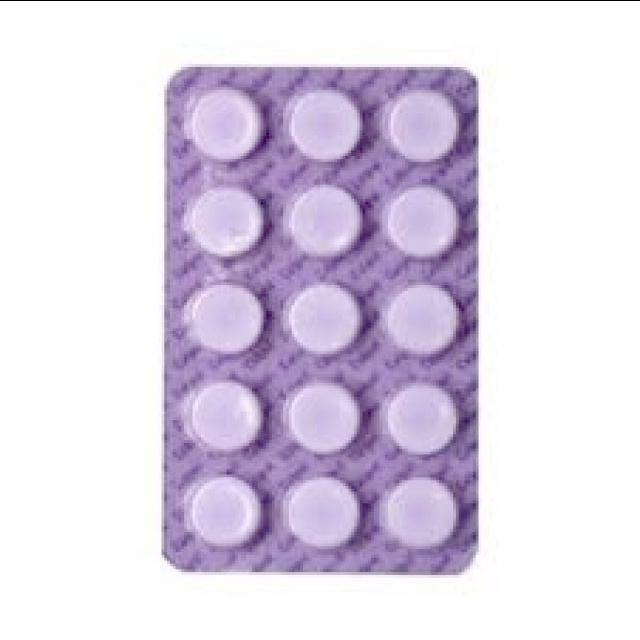authentic: (156, 60, 488, 584)
